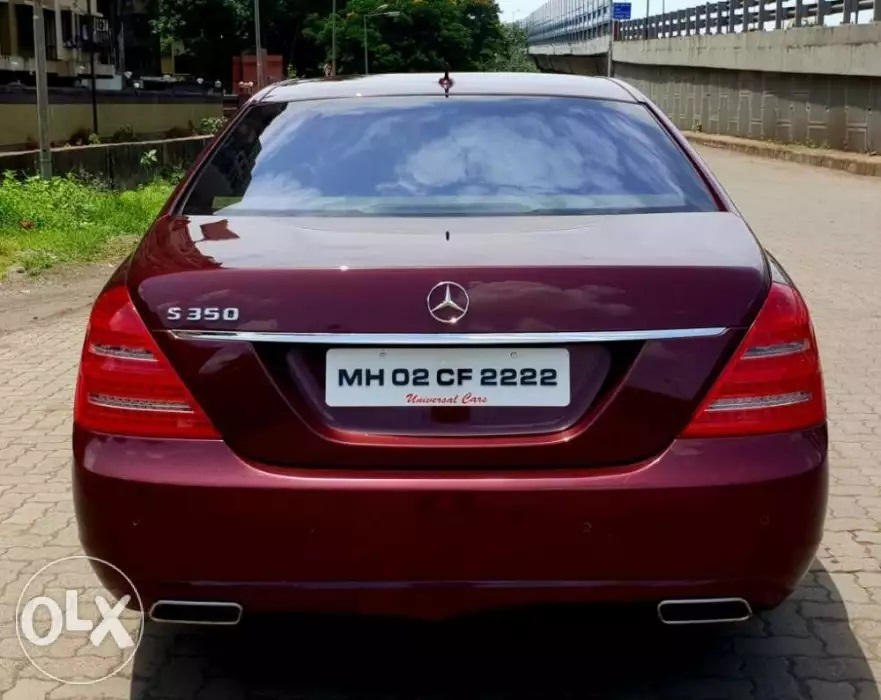licenseplate: (324, 345, 574, 409)
